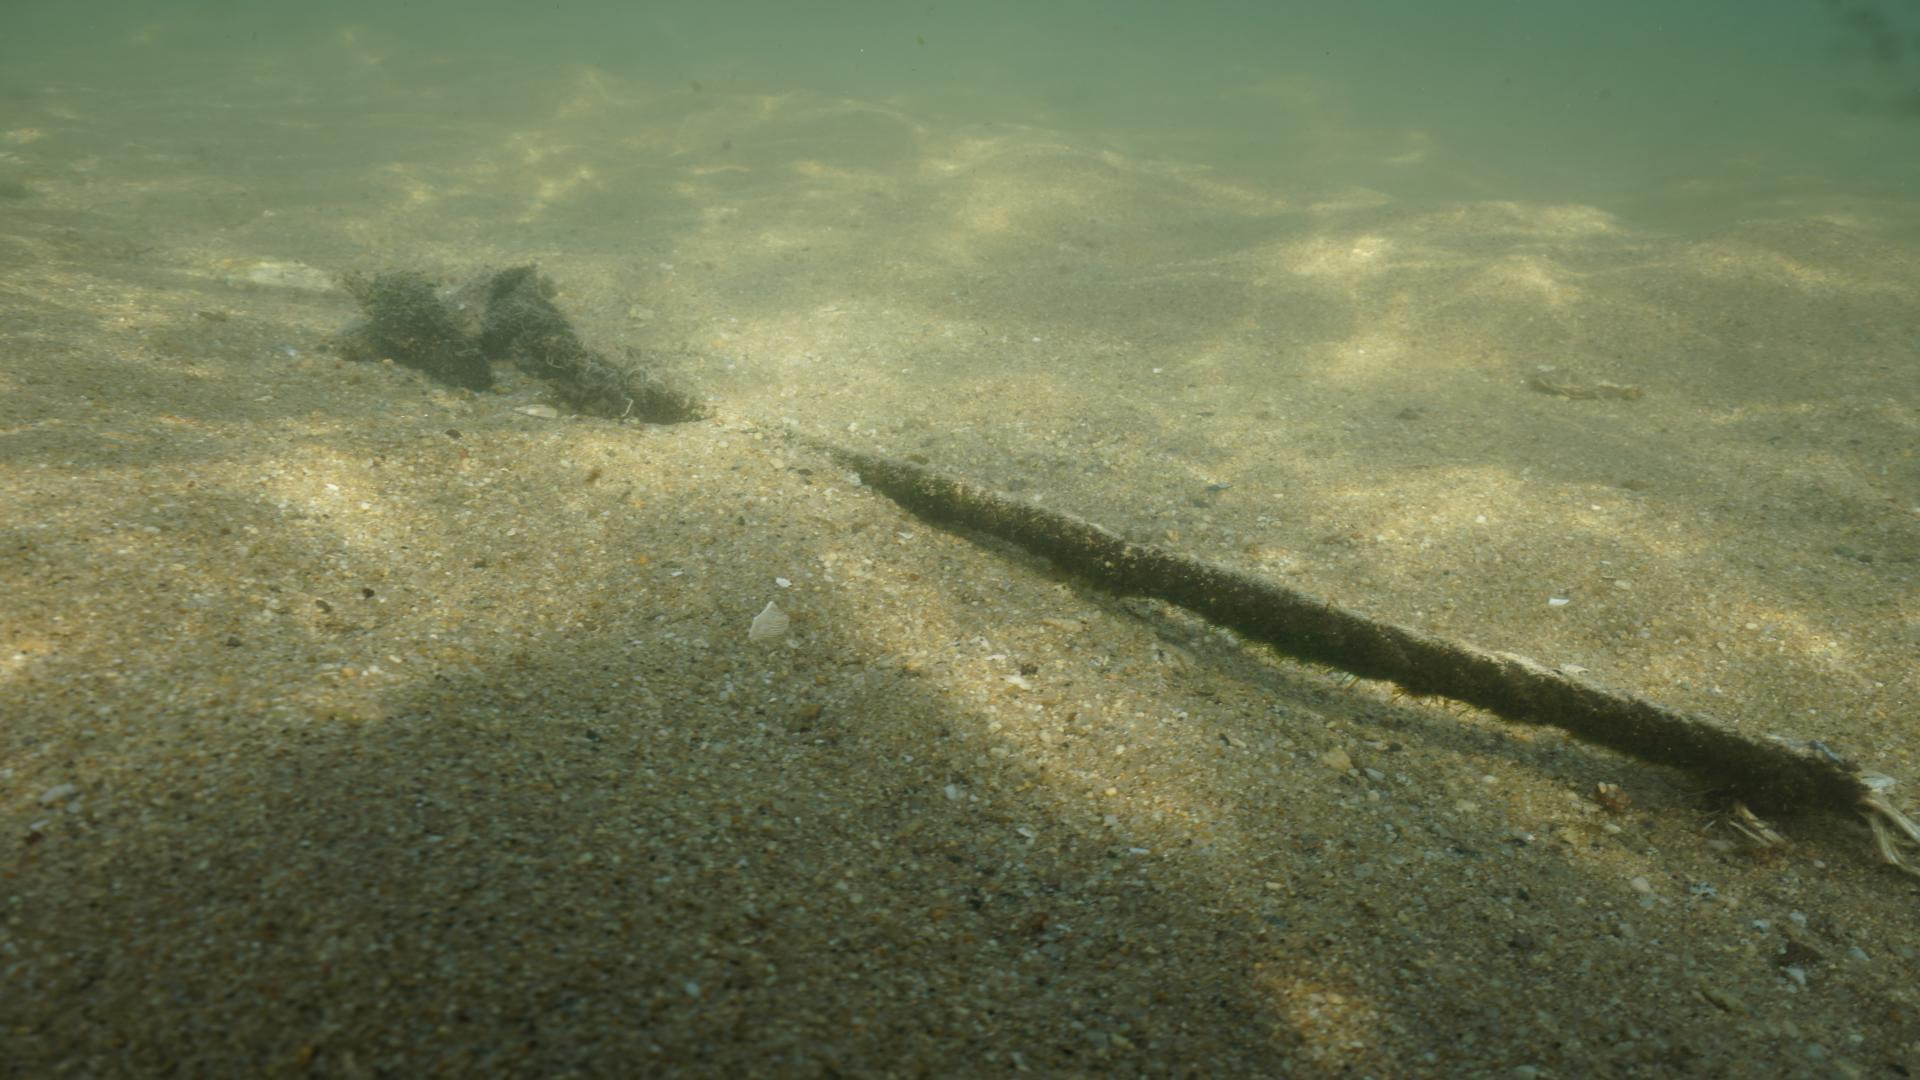rope: (338, 261, 1919, 876)
